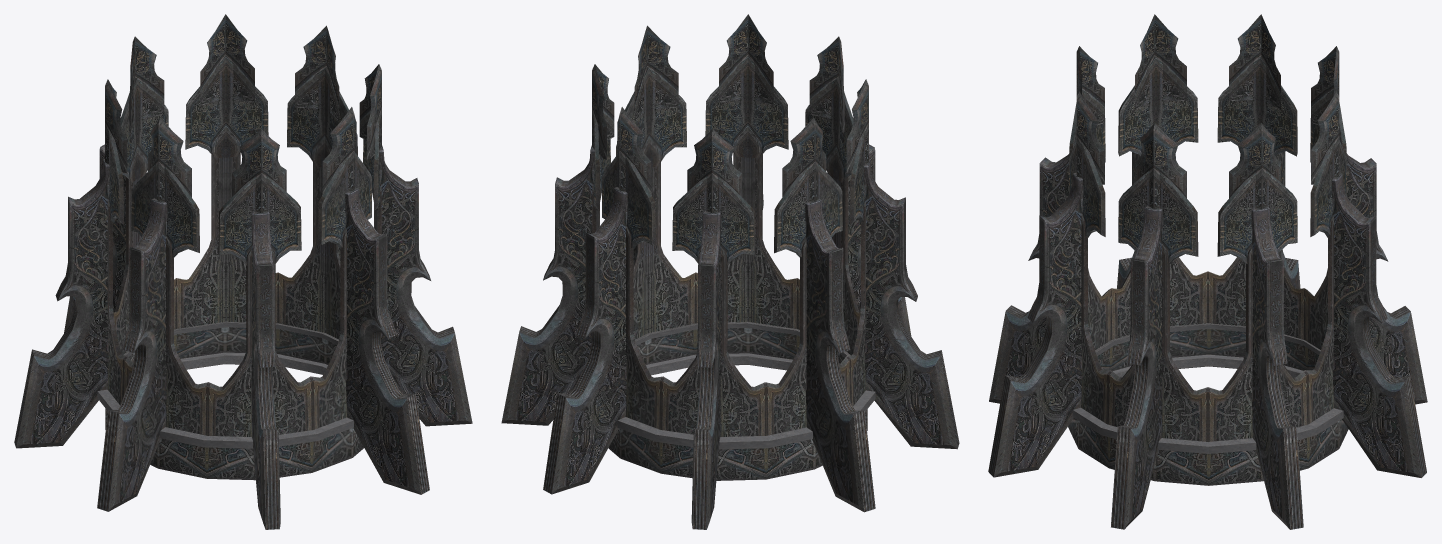
Rendered from Roof.fbx.
3 views of the same model, side by side, from view 1: azimuth 30°, elevation 25°; view 2: azimuth 150°, elevation 25°; view 3: azimuth 270°, elevation 25° (orthographic).
Parts seen in each view (by area): view 1: LV_Nigraturis_Lower_CenterWindow_SM_KBE; view 2: LV_Nigraturis_Lower_CenterWindow_SM_KBE; view 3: LV_Nigraturis_Lower_CenterWindow_SM_KBE.
Part boxes in pixels (x1,y1,x2,y2): LV_Nigraturis_Lower_CenterWindow_SM_KBE: [14, 14, 472, 529]; LV_Nigraturis_Lower_CenterWindow_SM_KBE: [501, 14, 959, 529]; LV_Nigraturis_Lower_CenterWindow_SM_KBE: [988, 14, 1427, 529].
Size of the model in its own units: 7.65 by 7.09 by 7.65.
